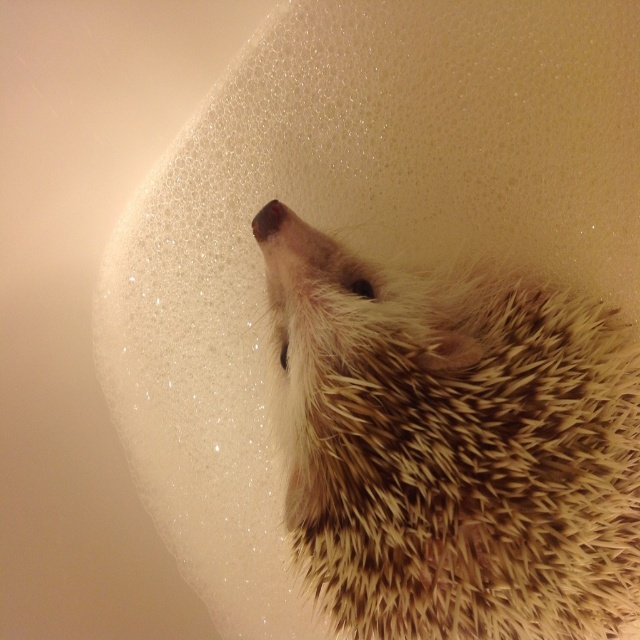Hedgehog: (240, 197, 640, 639)
